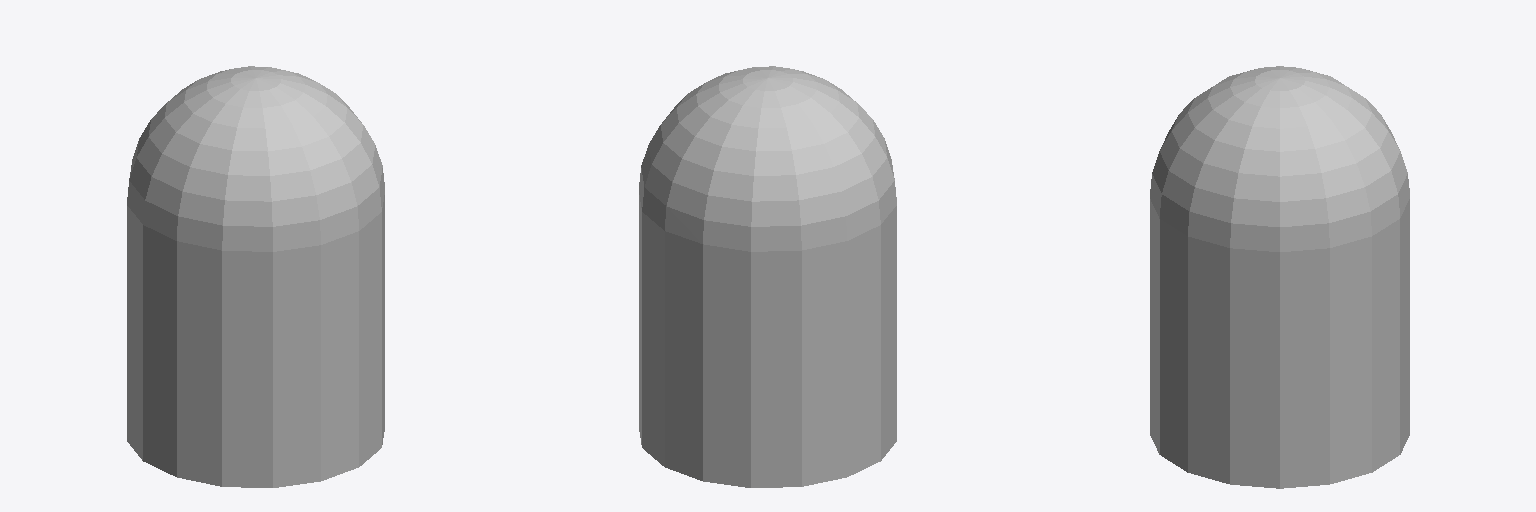
The model's file is half_capsule.obj.
3 views of the same model, side by side, from view 1: azimuth 30°, elevation 25°; view 2: azimuth 150°, elevation 25°; view 3: azimuth 270°, elevation 25° (orthographic).
Size of the model in its own units: 2 by 3.01 by 2.